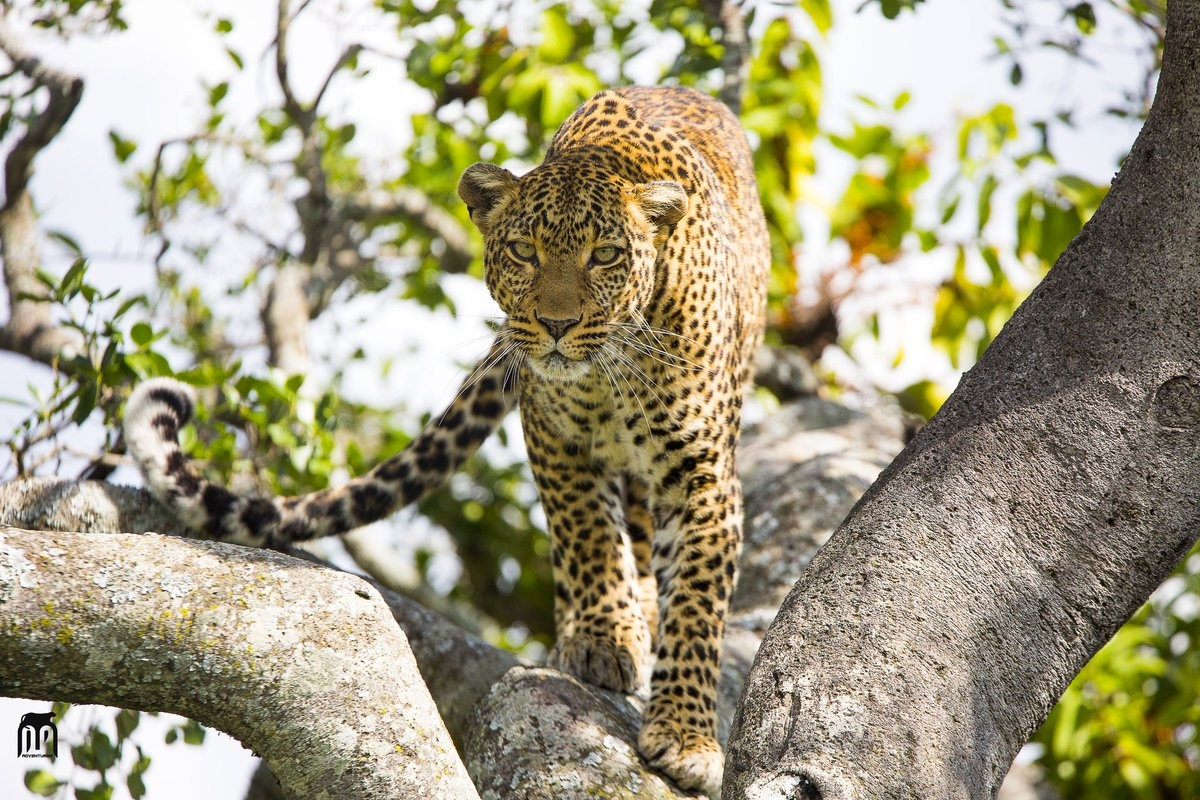leopard: (113, 79, 775, 798)
